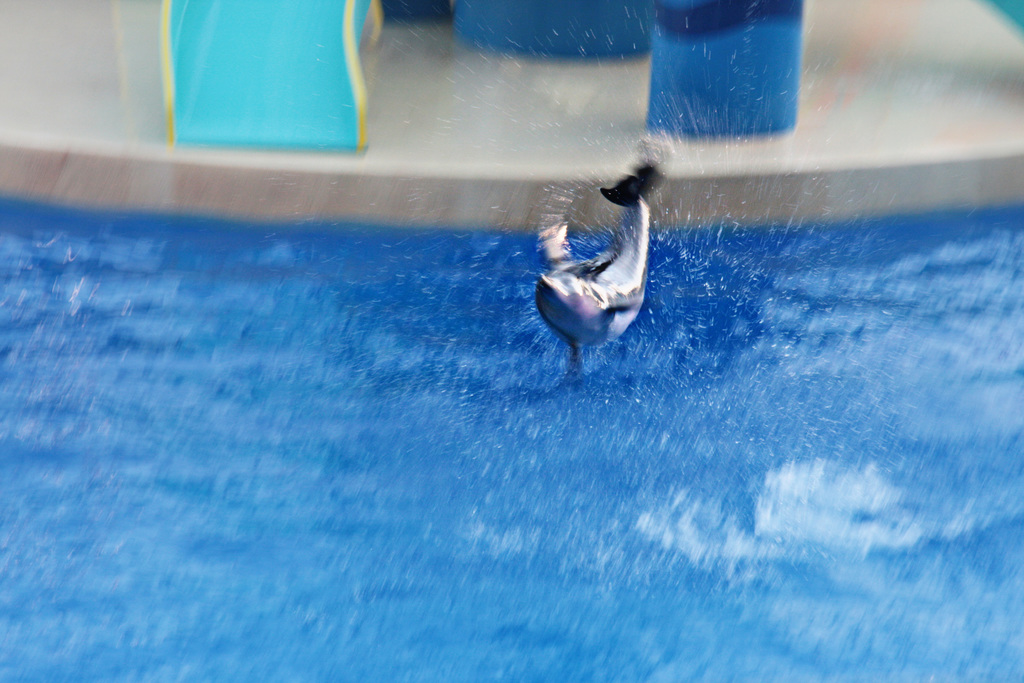person: (529, 138, 668, 347)
